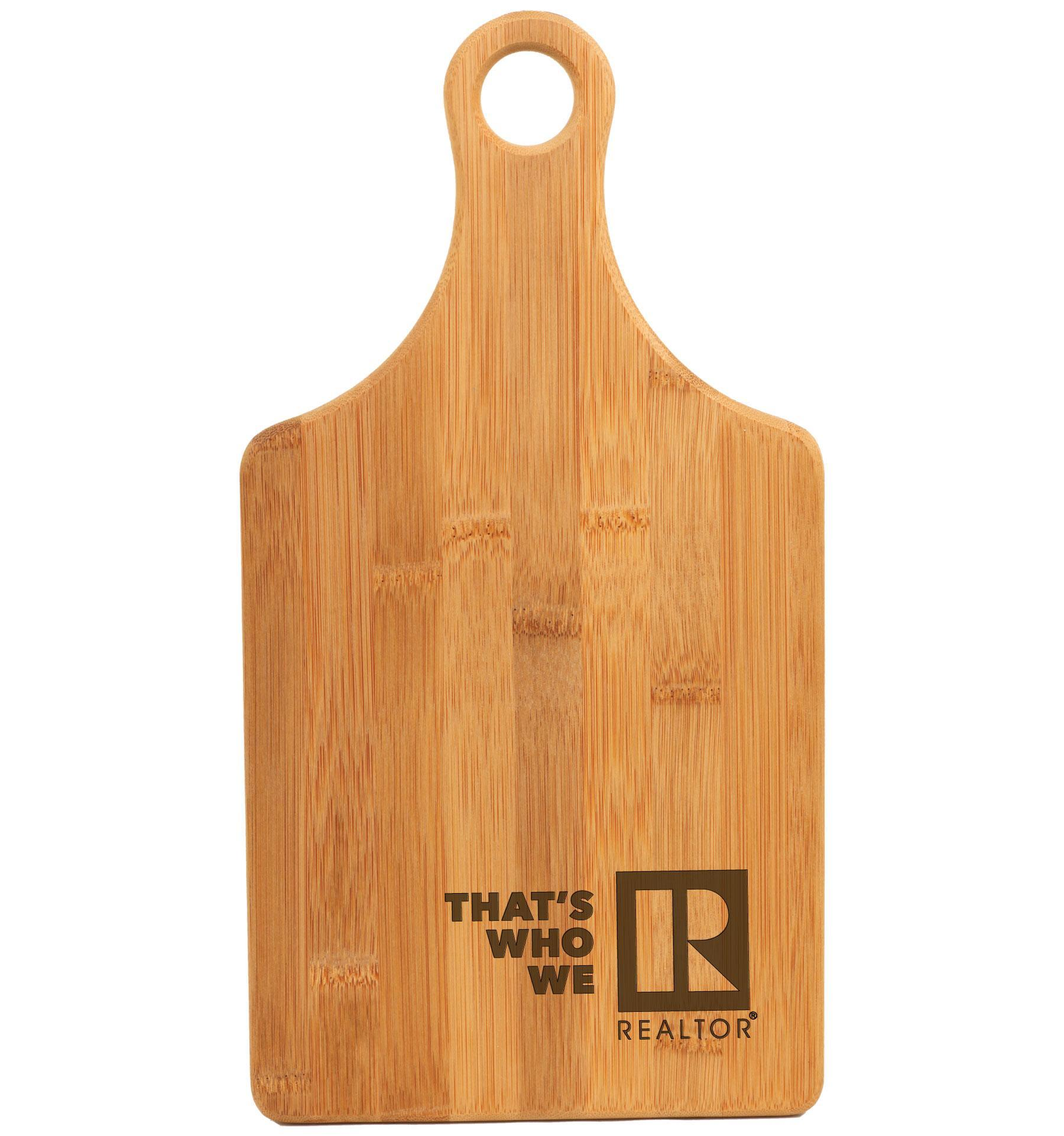gloved_hand: (222, 1, 852, 1136)
